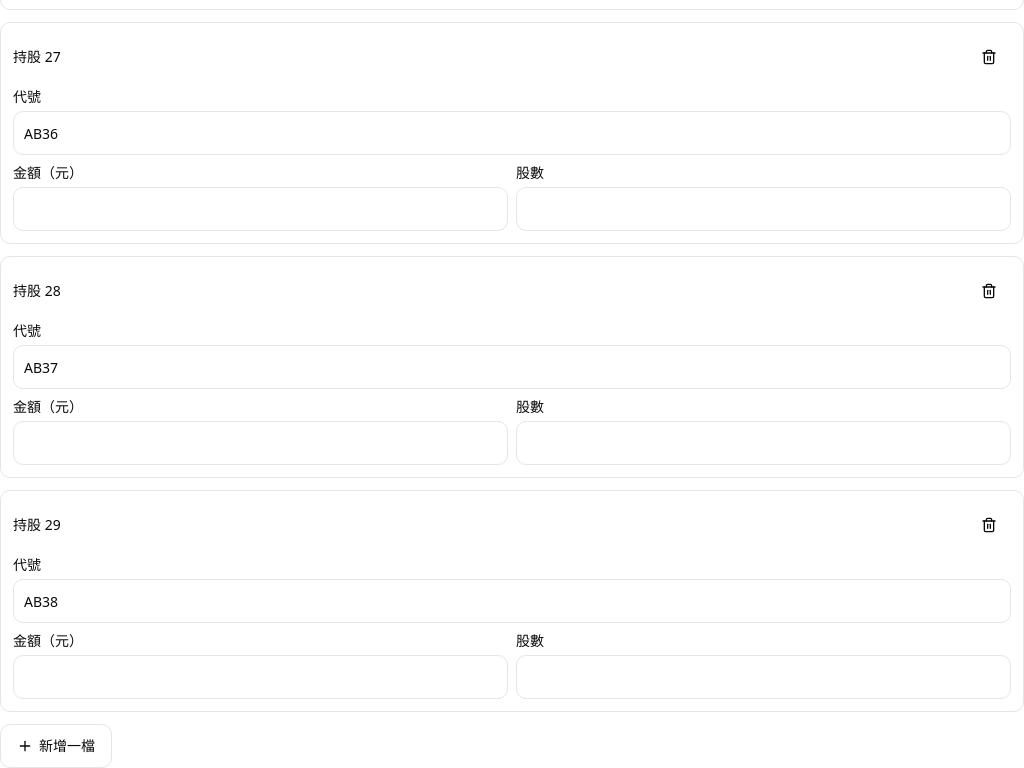
Test: HoldingsEditor › stops at 30 rows with a visible reason
(page scrolled)
Click the button "新增一檔" at (56, 746), box x1=0 y1=724 x2=112 y2=767
(page scrolled)
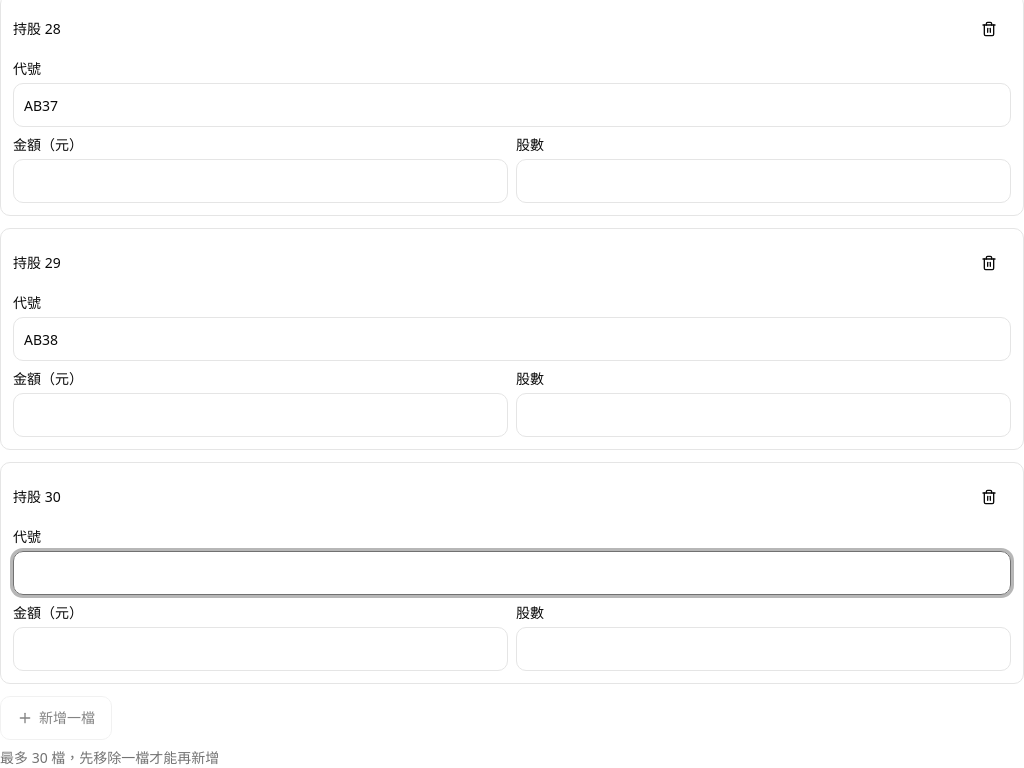
Expected: the element "持股 30" is shown, x1=0 y1=462 x2=1023 y2=684
Expected: the button "新增一檔" is disabled, x1=0 y1=696 x2=112 y2=740
Expected: the text "最多 30 檔，先移除一檔才能再新增" is shown, x1=0 y1=748 x2=219 y2=767
